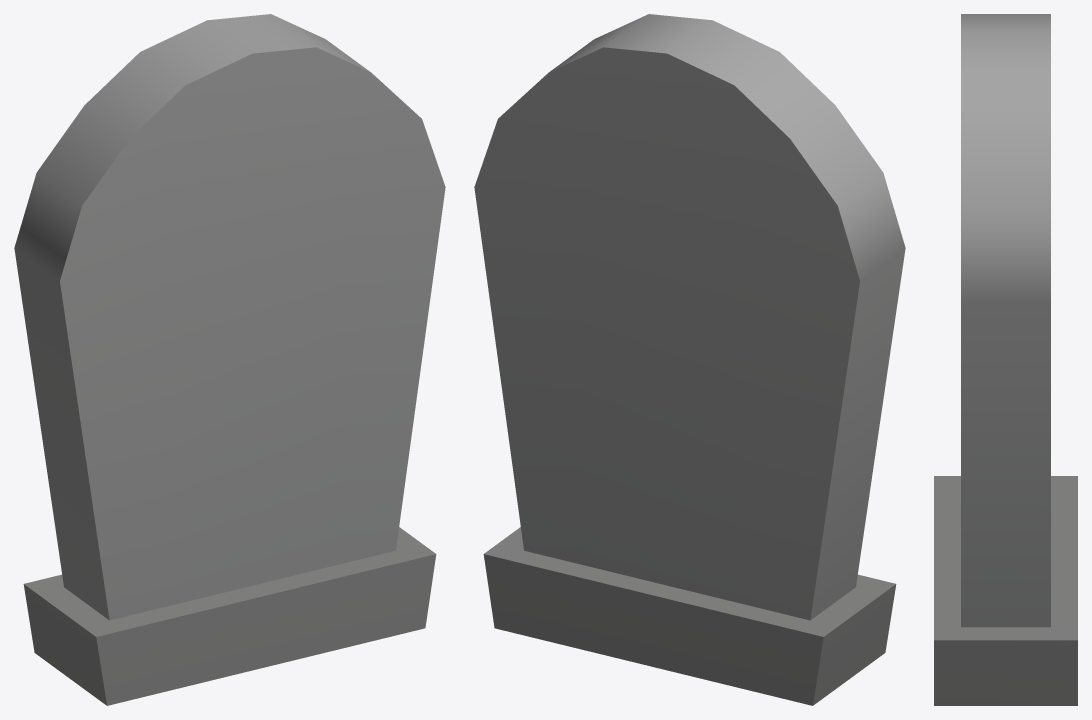
Rendered from grave_stone5.fbx.
3 renders of one model, left to right at view 1: azimuth 30°, elevation 25°; view 2: azimuth 150°, elevation 25°; view 3: azimuth 270°, elevation 25°, orthographic.
Parts seen in each view (by area): view 1: grave_stone5; view 2: grave_stone5; view 3: grave_stone5.
Boxes of the visible parts, x1,y1,x2,y2 form: grave_stone5: (14, 14, 445, 705); grave_stone5: (474, 14, 905, 705); grave_stone5: (934, 14, 1077, 705).
Bounding box in the file's own units: 4.89 × 7.31 × 1.59.
